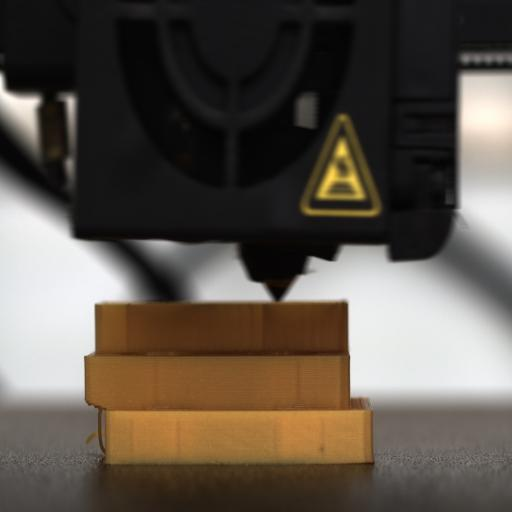layer_shift: (86, 394, 374, 422)
